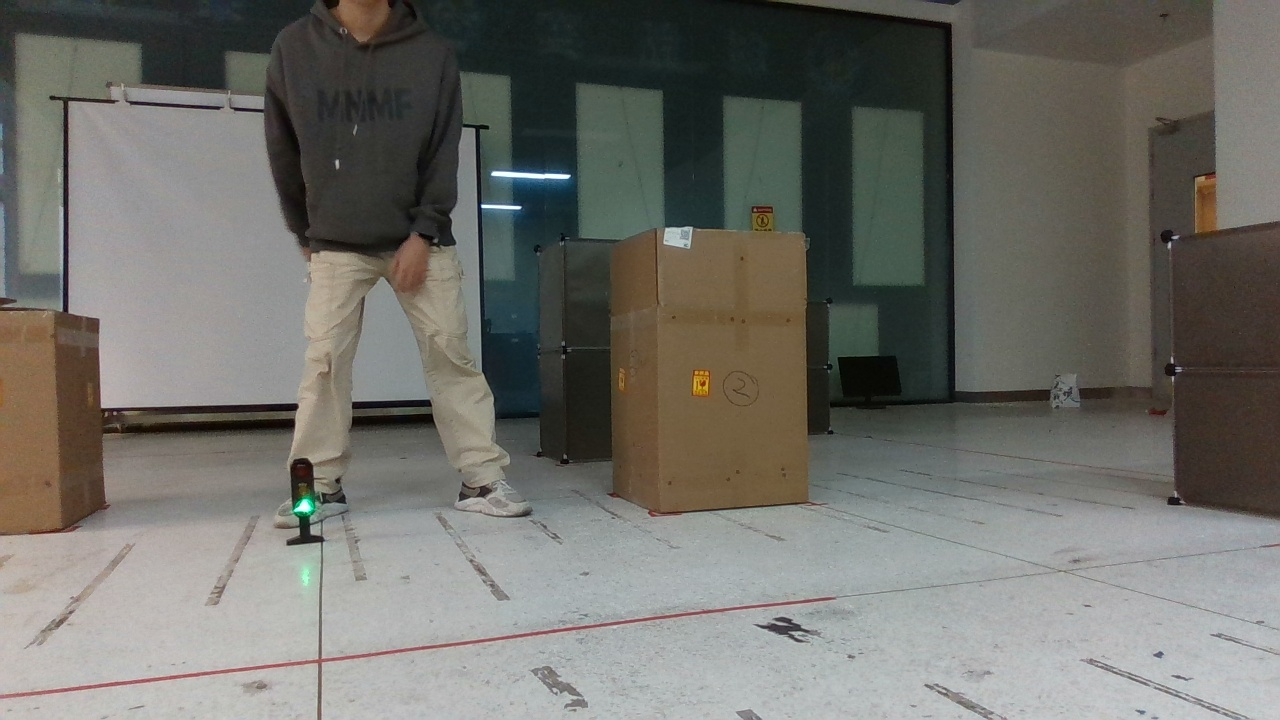green_light: (275, 450, 341, 546)
